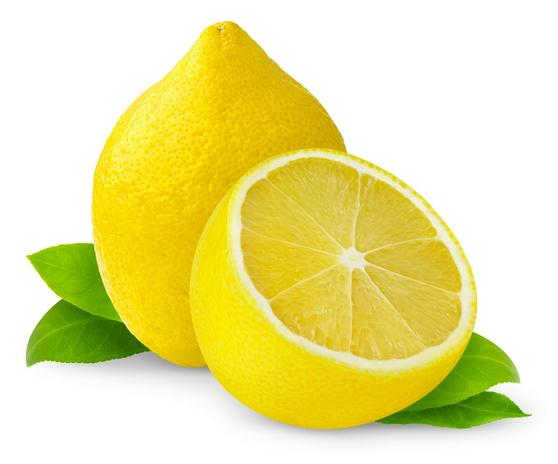lemon: (95, 21, 359, 375)
